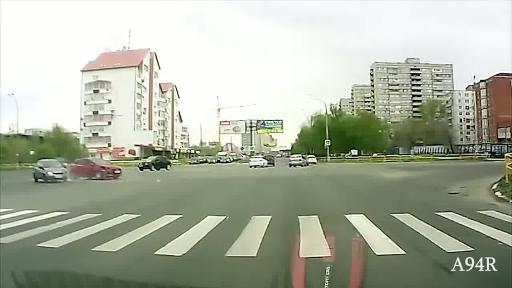Accident-fire-smoke: (16, 122, 156, 208)
